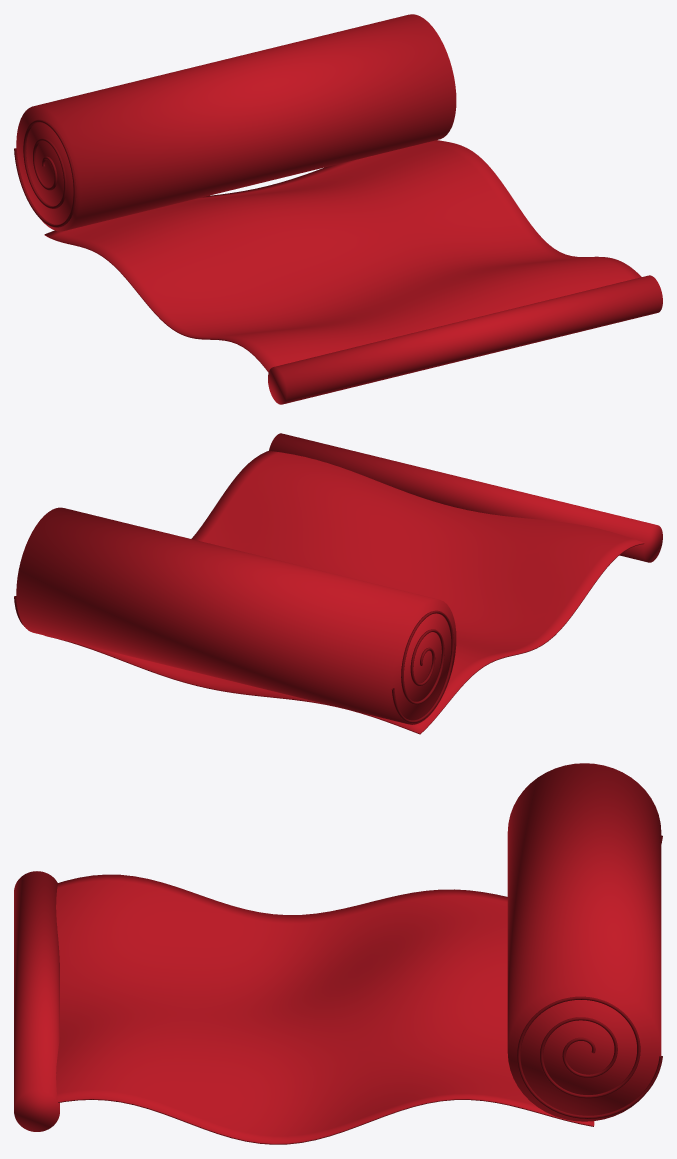
3 renders of one model, top to bottom at view 1: azimuth 30°, elevation 25°; view 2: azimuth 150°, elevation 25°; view 3: azimuth 270°, elevation 25°, orthographic. The views are drawn at different scales.
Parts seen in each view (by area): view 1: TI010 / editable draped woven sheet, TI010 / rolled cloth body, TI010 / partially rolled lower edge, TI010 / visible spiral selvage; view 2: TI010 / rolled cloth body, TI010 / editable draped woven sheet, TI010 / partially rolled lower edge, TI010 / visible spiral selvage; view 3: TI010 / editable draped woven sheet, TI010 / rolled cloth body, TI010 / partially rolled lower edge, TI010 / visible spiral selvage.001.
Boxes of the visible parts, left/top/right/bottom form: TI010 / editable draped woven sheet: left=44, top=140, right=641, bottom=372; TI010 / rolled cloth body: left=16, top=14, right=456, bottom=231; TI010 / partially rolled lower edge: left=268, top=275, right=662, bottom=404; TI010 / visible spiral selvage: left=14, top=119, right=76, bottom=227; TI010 / rolled cloth body: left=16, top=507, right=456, bottom=724; TI010 / editable draped woven sheet: left=45, top=450, right=644, bottom=734; TI010 / partially rolled lower edge: left=269, top=433, right=662, bottom=562; TI010 / visible spiral selvage: left=391, top=610, right=454, bottom=723; TI010 / editable draped woven sheet: left=56, top=874, right=594, bottom=1144; TI010 / rolled cloth body: left=507, top=763, right=661, bottom=1121; TI010 / partially rolled lower edge: left=14, top=871, right=59, bottom=1131; TI010 / visible spiral selvage.001: left=517, top=996, right=662, bottom=1118.
Size of the model in its own units: 2.73 by 0.9328 by 3.38.
